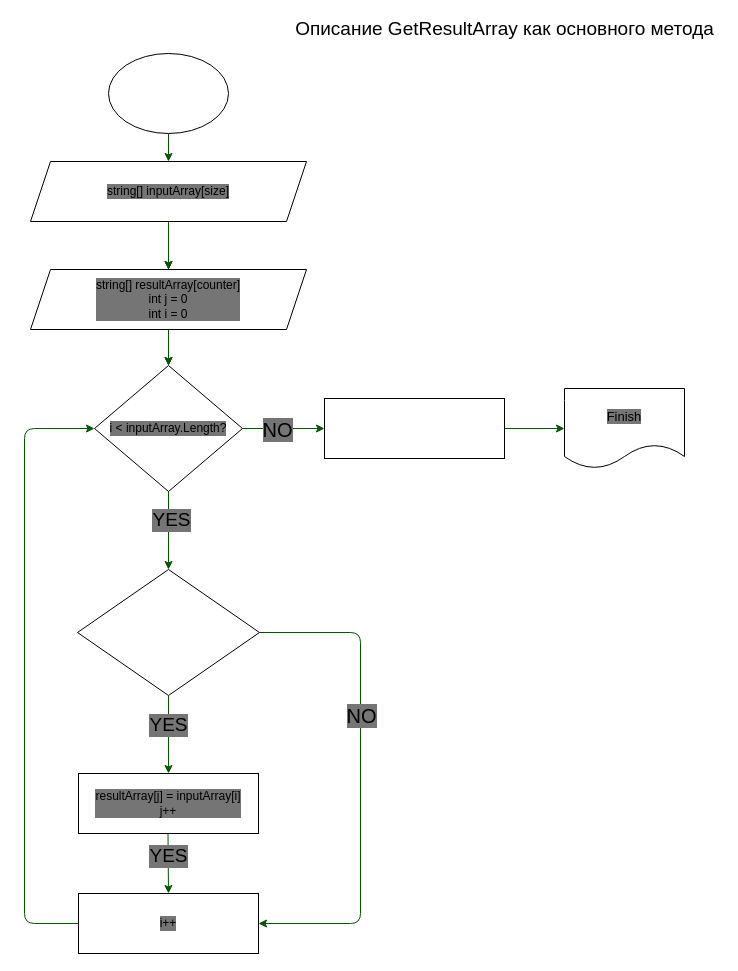
Image size: 738x971. Some labels were removed from this diagram. Here are the shapes that lost their labels. From the top down, the centre of each, then its label:
the point at 168,93: Start
the point at 414,428: return resultArray
the point at 168,632: inputArray[i].Length <= 3 ?
